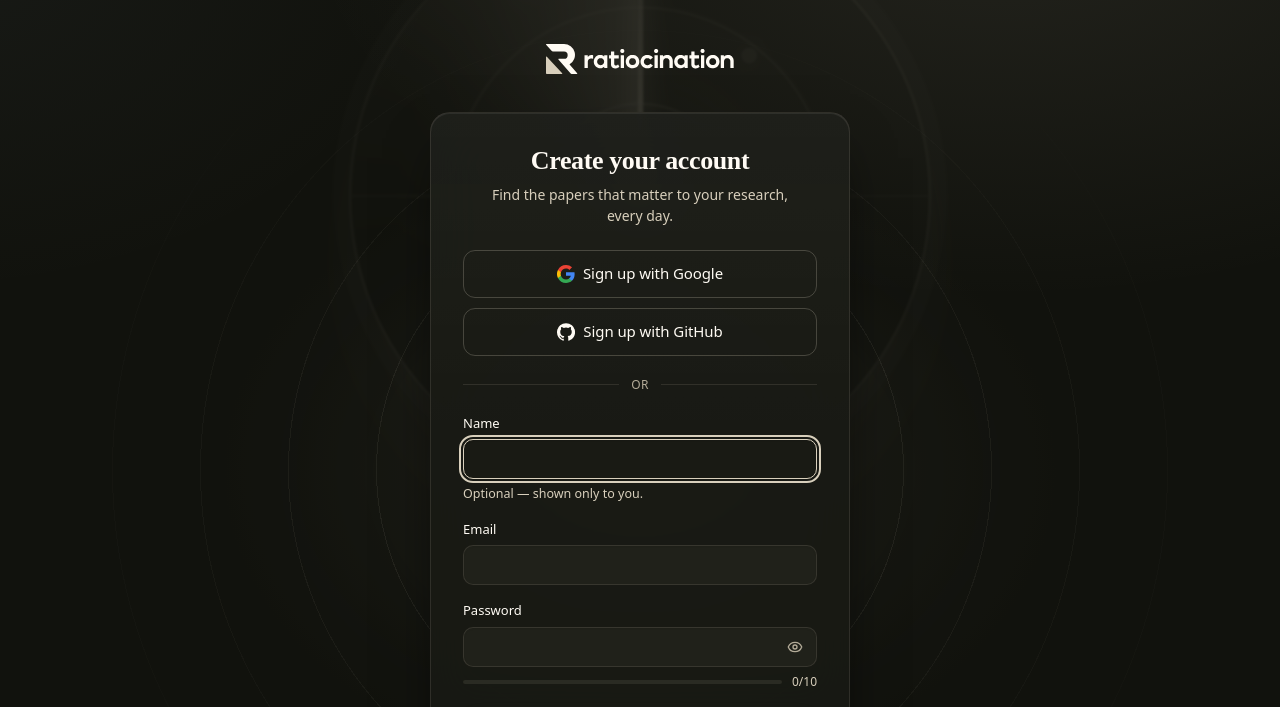
Scenario: SignUpPage › checks the password length before sending anything
The width and height of the screenshot is (1280, 707).
Expected: the heading "Create your account" is shown, 531,146 -> 749,175
Type "new@example.org" into the field labelled "Email".
click(640, 565); type("new@example.org")  # box 463,545 -> 817,585
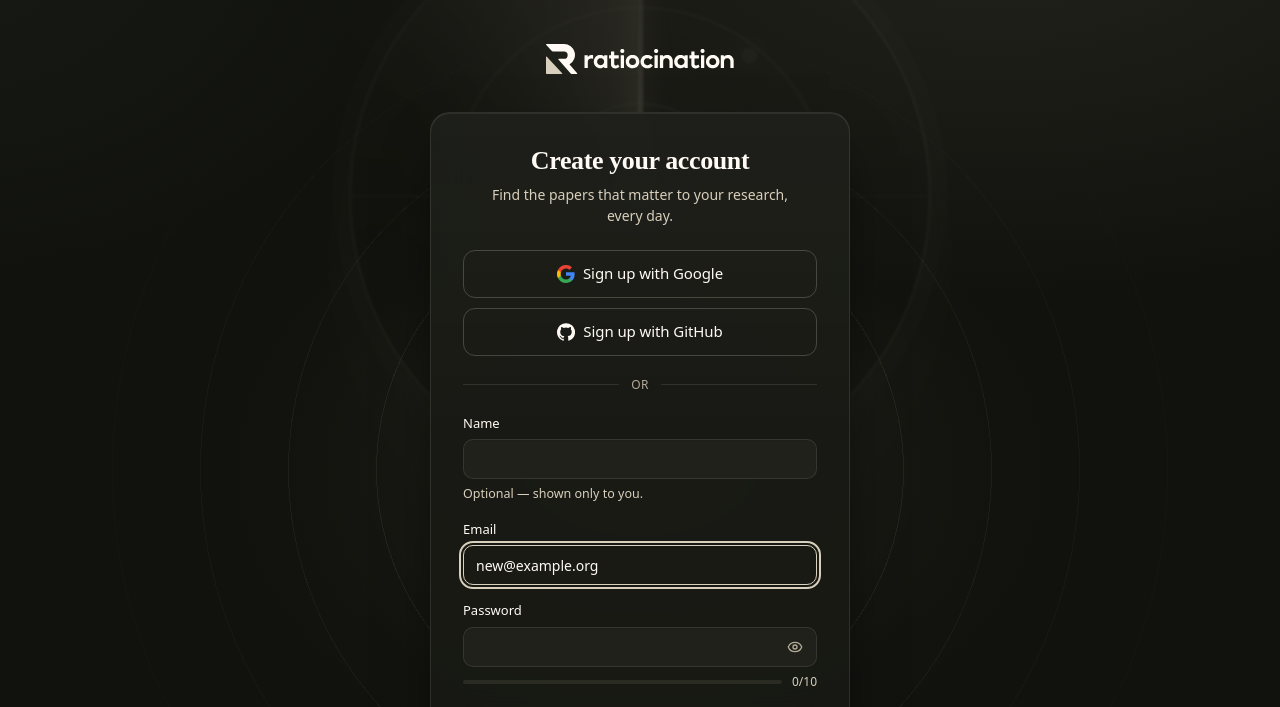
Type "short" into the password field labelled "Password".
click(640, 647); type("short")  # box 463,627 -> 817,667
(page scrolled)
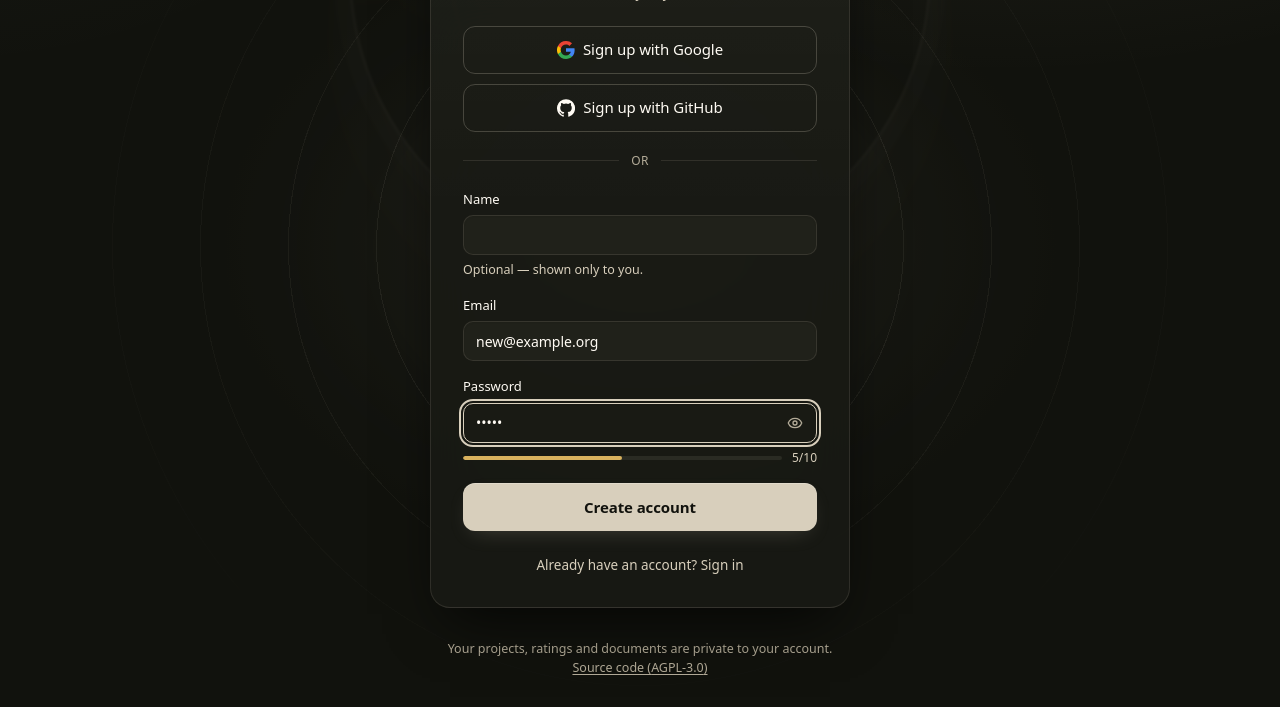
Expected: the text "5/10" is shown, 792,449 -> 817,467
Click the button "Create account".
click(640, 507)  # box 463,483 -> 817,531
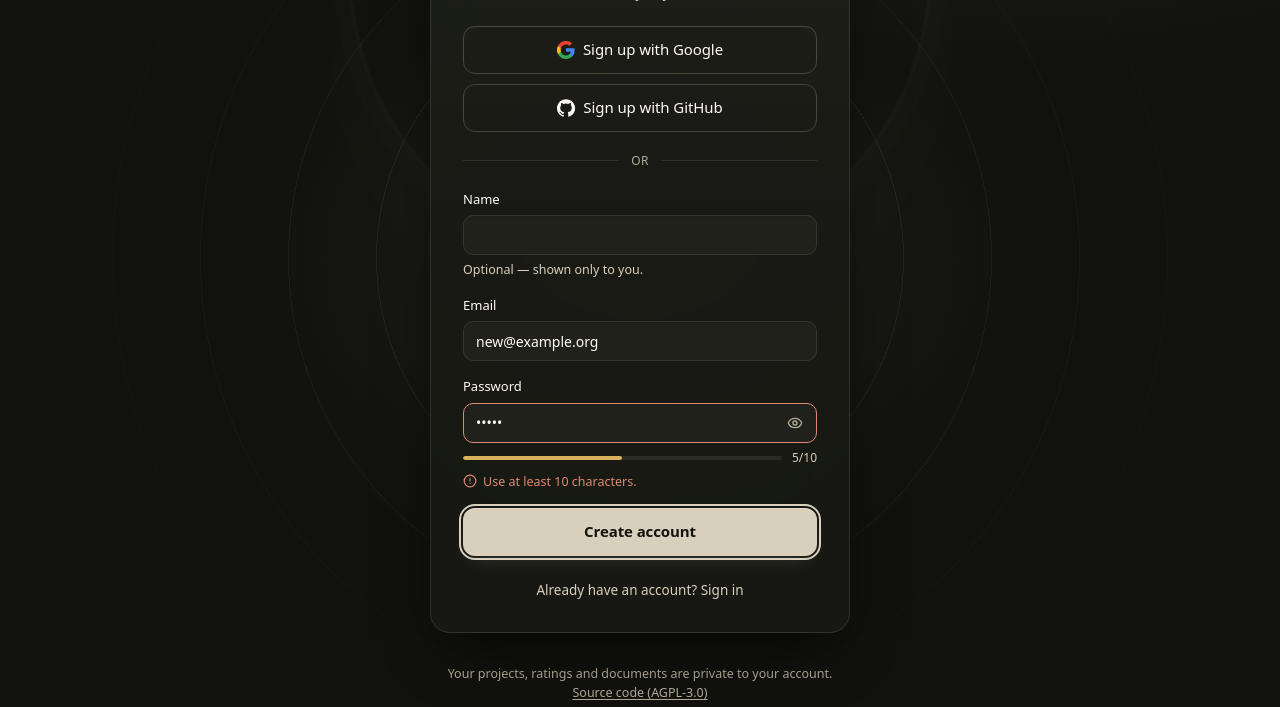
Expected: the text "Use at least 10 characters." is shown, 483,473 -> 636,492
